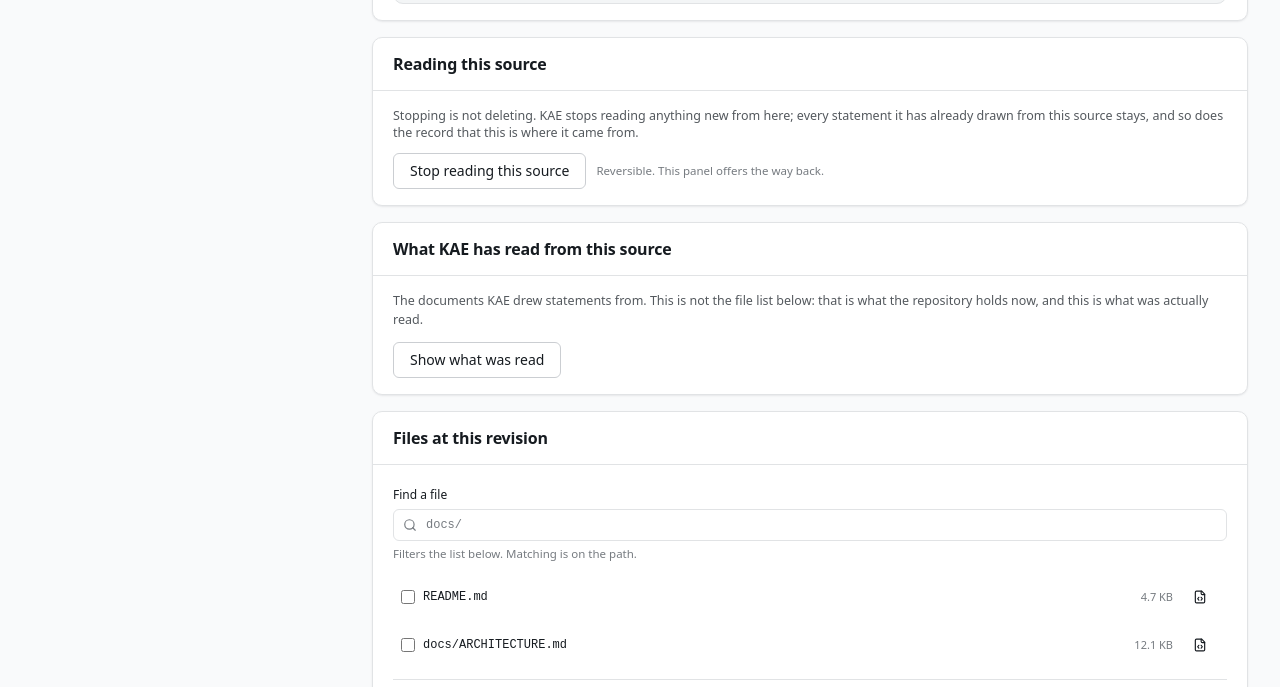
Test case: a source names what it actually read › keeps what was read apart from what the repository holds now
The width and height of the screenshot is (1280, 687).
(page scrolled)
Click the button "Show what was read". click: {"x": 477, "y": 360}
box: [393,342,562,378]
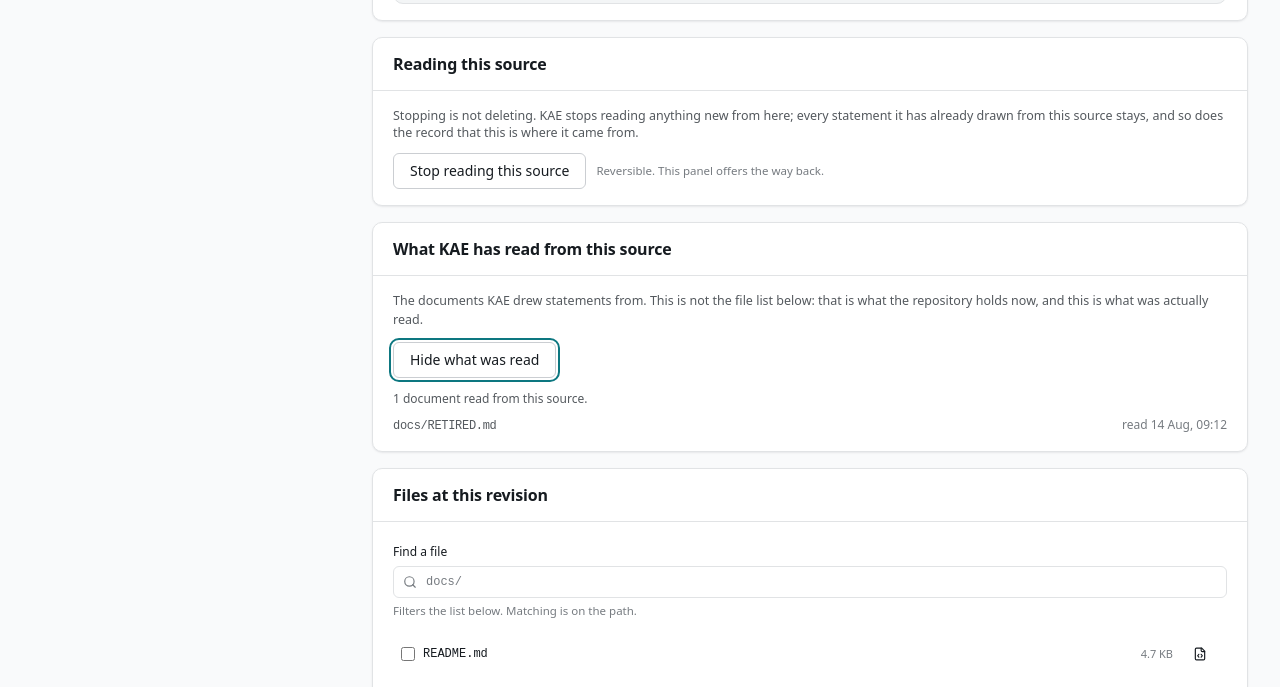
expect the text "what the repository holds now" is shown: met, box [393,292,1208,328]
expect the text "docs/RETIRED.md" is shown: met, box [393,417,496,435]
